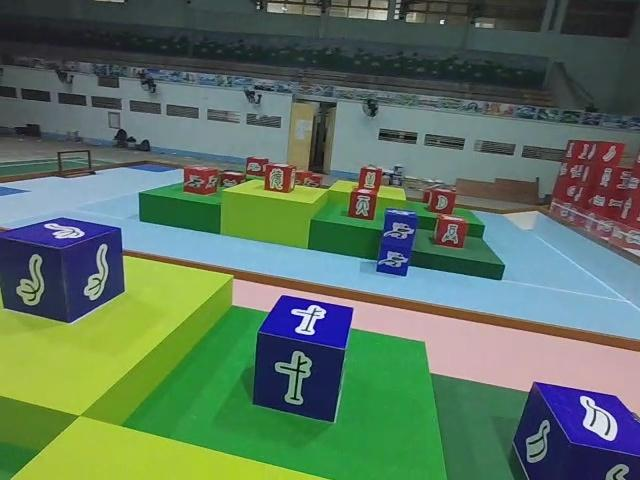R2 Real Blue: (1, 218, 126, 326), (252, 297, 353, 427), (511, 383, 638, 480)
